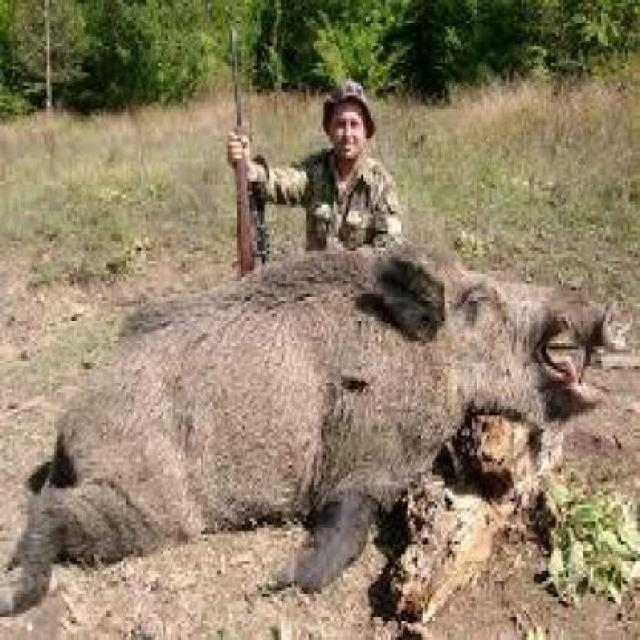wildboar: (0, 226, 617, 620)
